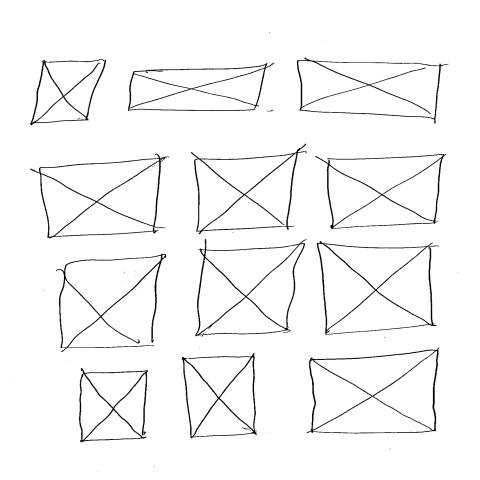Image: (307, 350, 441, 435), (195, 241, 309, 338), (317, 244, 435, 337), (38, 155, 165, 240), (57, 254, 166, 352), (297, 58, 445, 121), (326, 153, 447, 230), (327, 154, 447, 231), (194, 151, 302, 234), (127, 63, 270, 114), (182, 355, 258, 439), (77, 370, 150, 444), (29, 58, 107, 127)
